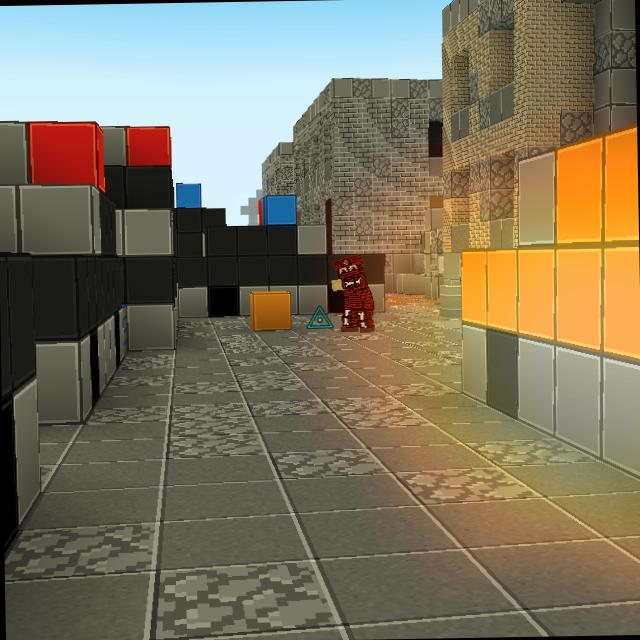enemy: (330, 251, 376, 334)
